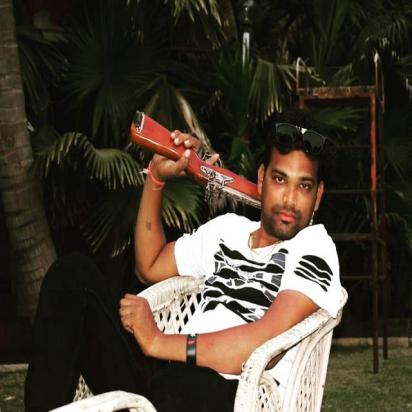Gun: (127, 106, 263, 212)
